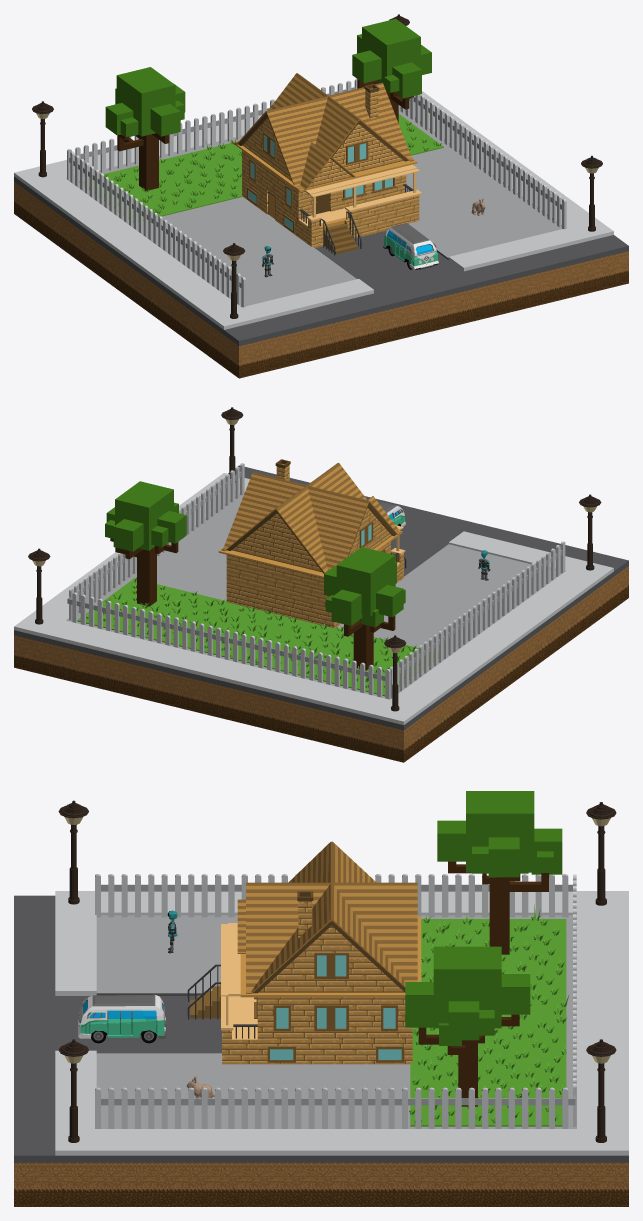
3 views of the same model, one above another, from view 1: azimuth 30°, elevation 25°; view 2: azimuth 150°, elevation 25°; view 3: azimuth 270°, elevation 25° (orthographic). The views are drawn at different scales.
Visible parts, largest first — view 1: Cube.004, Cube.508, VEHICLES_VAN; view 2: Cube.004, Cube.508; view 3: Cube.004, Cube.508, VEHICLES_VAN.
Boxes of the visible parts, <box> form: Cube.004: <box>14,14,628,378</box>; Cube.508: <box>233,73,422,255</box>; VEHICLES_VAN: <box>383,223,438,270</box>; Cube.004: <box>14,407,628,762</box>; Cube.508: <box>218,459,406,627</box>; Cube.004: <box>14,791,628,1206</box>; Cube.508: <box>187,841,421,1064</box>; VEHICLES_VAN: <box>78,994,166,1043</box>.
Size of the model in its own units: 4000 by 1753 by 4000.
Materials: 39 (4 with a texture image).
